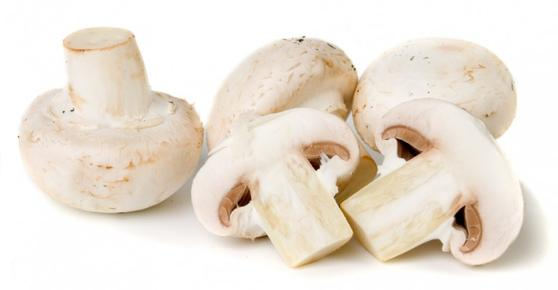champignon: (24, 29, 205, 220), (357, 34, 521, 152), (209, 34, 356, 126)
